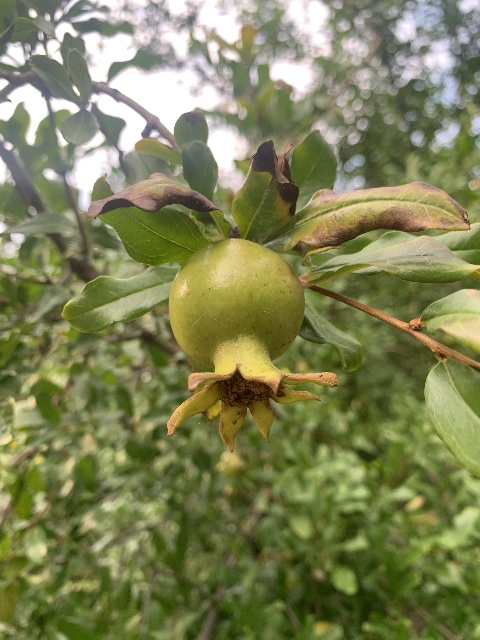mid-growth: (162, 238, 338, 450)
